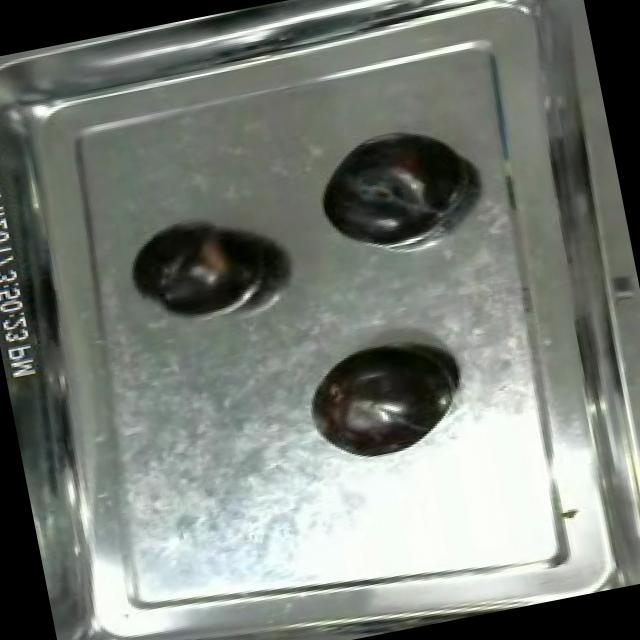Fruit: (294, 328, 470, 473), (304, 119, 477, 258), (126, 205, 266, 328)
